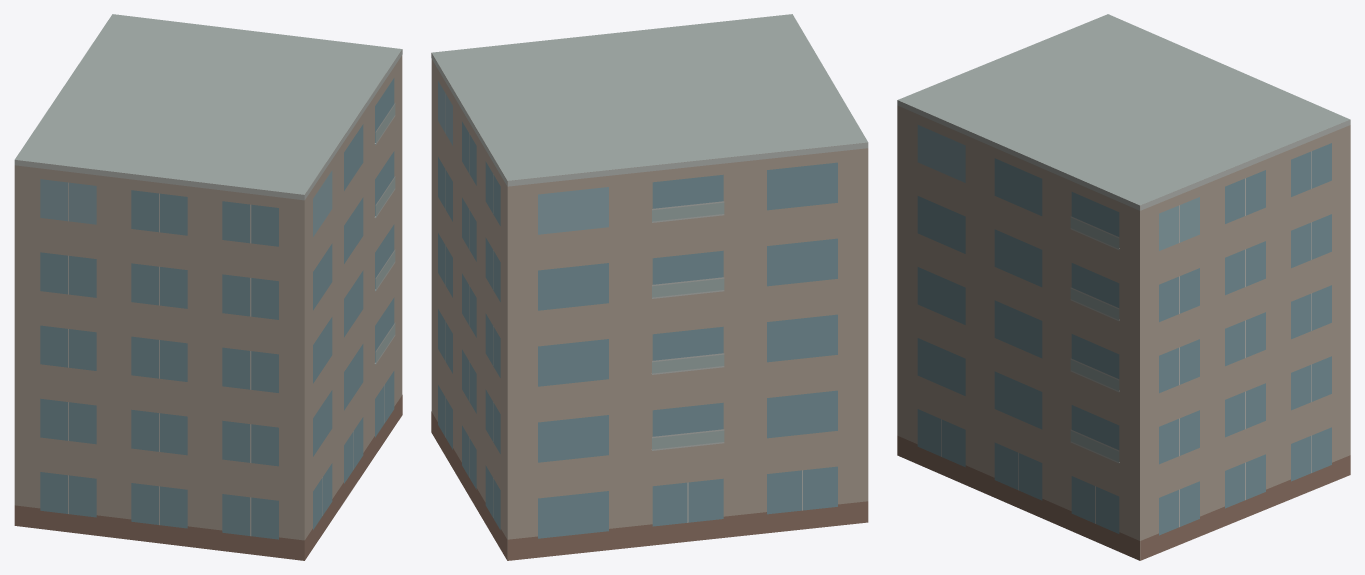
Rendered from survey-upis-32885935.glb.
3 views of the same model, side by side, from view 1: azimuth 30°, elevation 25°; view 2: azimuth 150°, elevation 25°; view 3: azimuth 270°, elevation 25° (orthographic). The views are drawn at different scales.
Visible parts, largest first — view 1: survey-upis-32885935.tmp; view 2: survey-upis-32885935.tmp; view 3: survey-upis-32885935.tmp.
Boxes of the visible parts, left/top/right/bottom form: survey-upis-32885935.tmp: left=14, top=14, right=402, bottom=560; survey-upis-32885935.tmp: left=431, top=14, right=868, bottom=560; survey-upis-32885935.tmp: left=897, top=14, right=1350, bottom=560.
Size of the model in its own units: 18.74 by 16.2 by 18.73.
